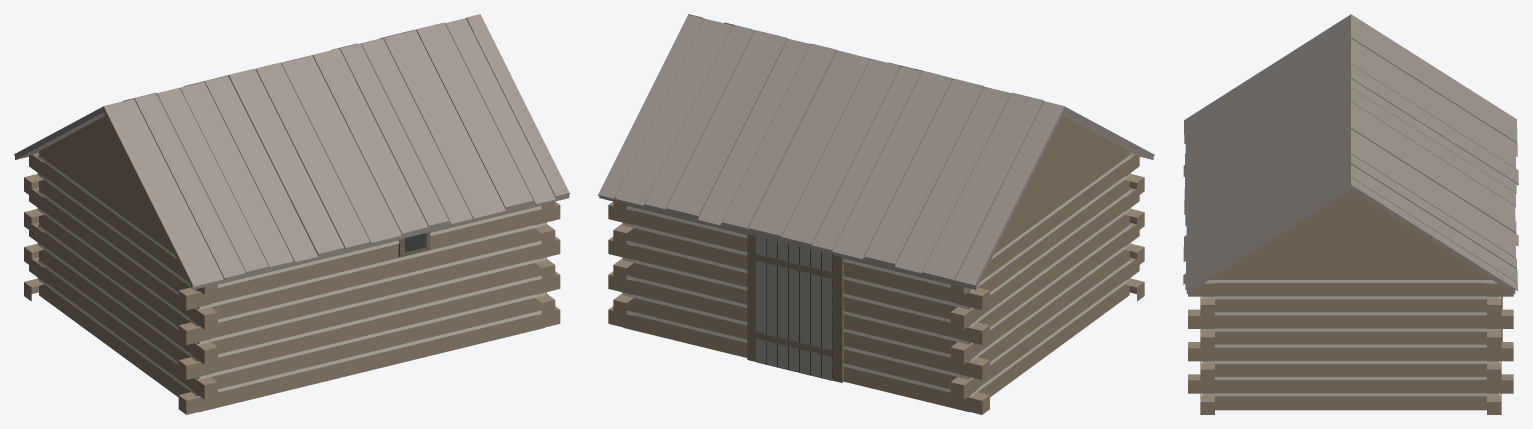
Rendered from beaubien_barn__converted_1817.glb.
The picture shows the model from 3 angles, left to right: view 1: azimuth 30°, elevation 25°; view 2: azimuth 150°, elevation 25°; view 3: azimuth 270°, elevation 25°; orthographic projection. The views are drawn at different scales.
Parts seen in each view (by area): view 1: beaubien_barn__converted_1817; view 2: beaubien_barn__converted_1817; view 3: beaubien_barn__converted_1817.
Boxes of the visible parts, x1,y1,x2,y2 form: beaubien_barn__converted_1817: (14, 14, 569, 414); beaubien_barn__converted_1817: (598, 14, 1154, 414); beaubien_barn__converted_1817: (1183, 14, 1518, 414).
Size of the model in its own units: 6.63 by 4.24 by 5.52.
